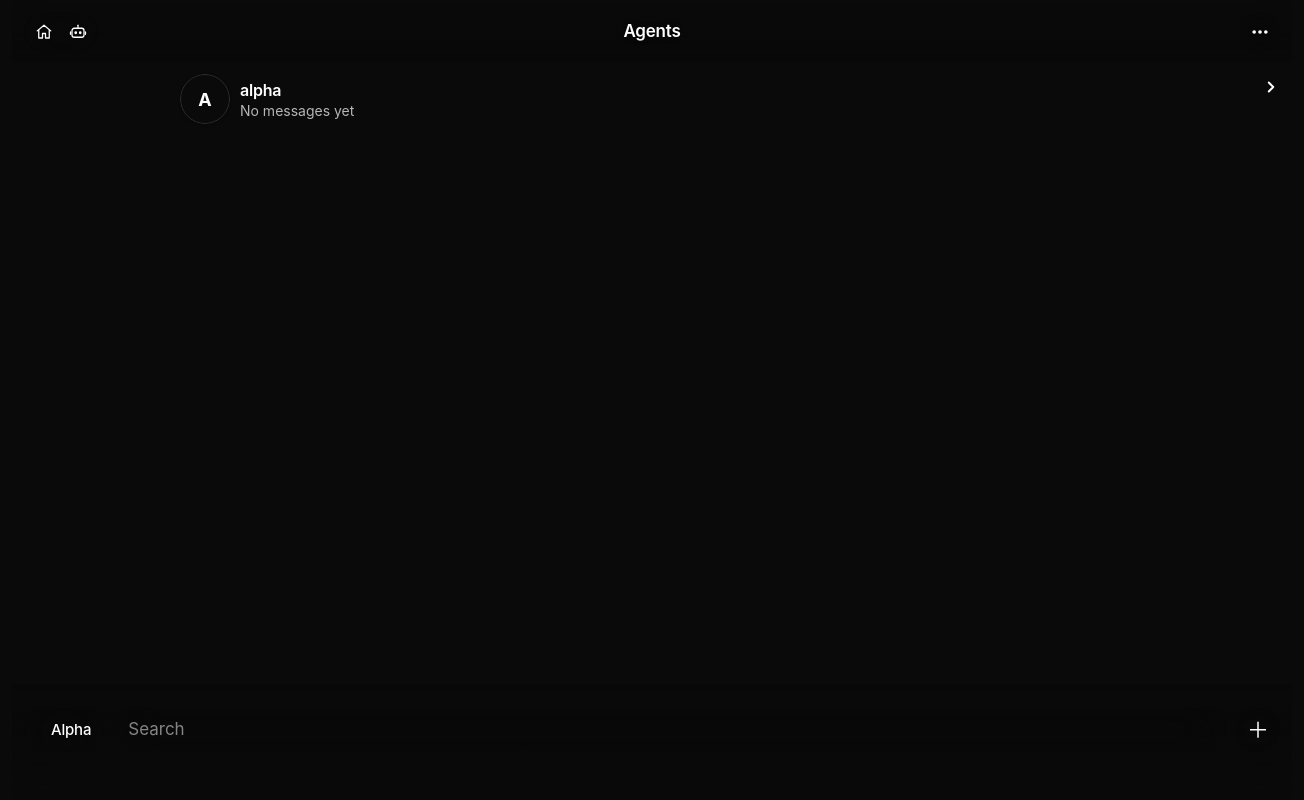
Test case: a person row whose server is not saved on this phone › a channel row in the grid: Sign in under its name, and a tap opens Add server for its host
The width and height of the screenshot is (1304, 800).
Click the button with test id "list-tab-home". click: point(44, 32)
box: [27,15,61,49]
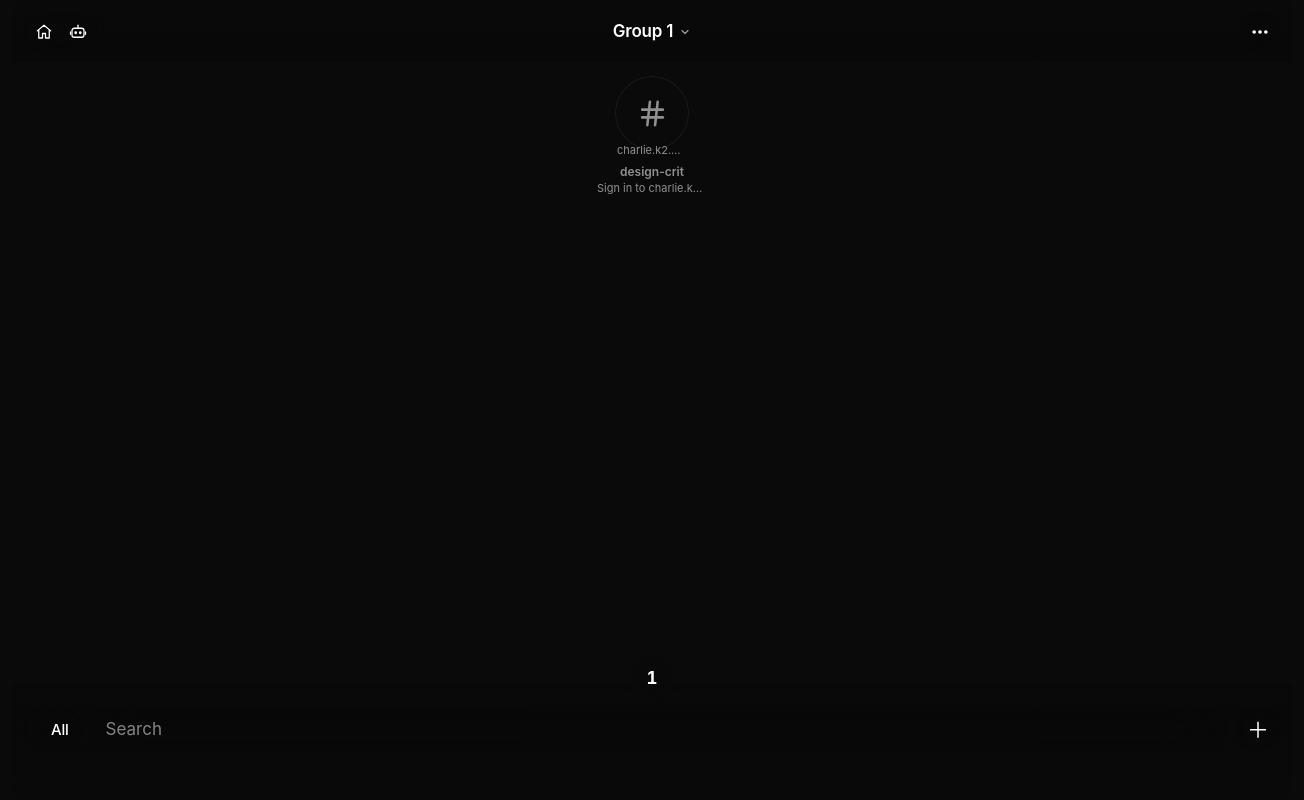
Result: the text with test id "row-failure" reads "Sign in to charlie.k2.dev" at [597,181,722,195]
Click the button with test id "home-chat-channel-502". click: point(652, 136)
box: [453,76,851,195]
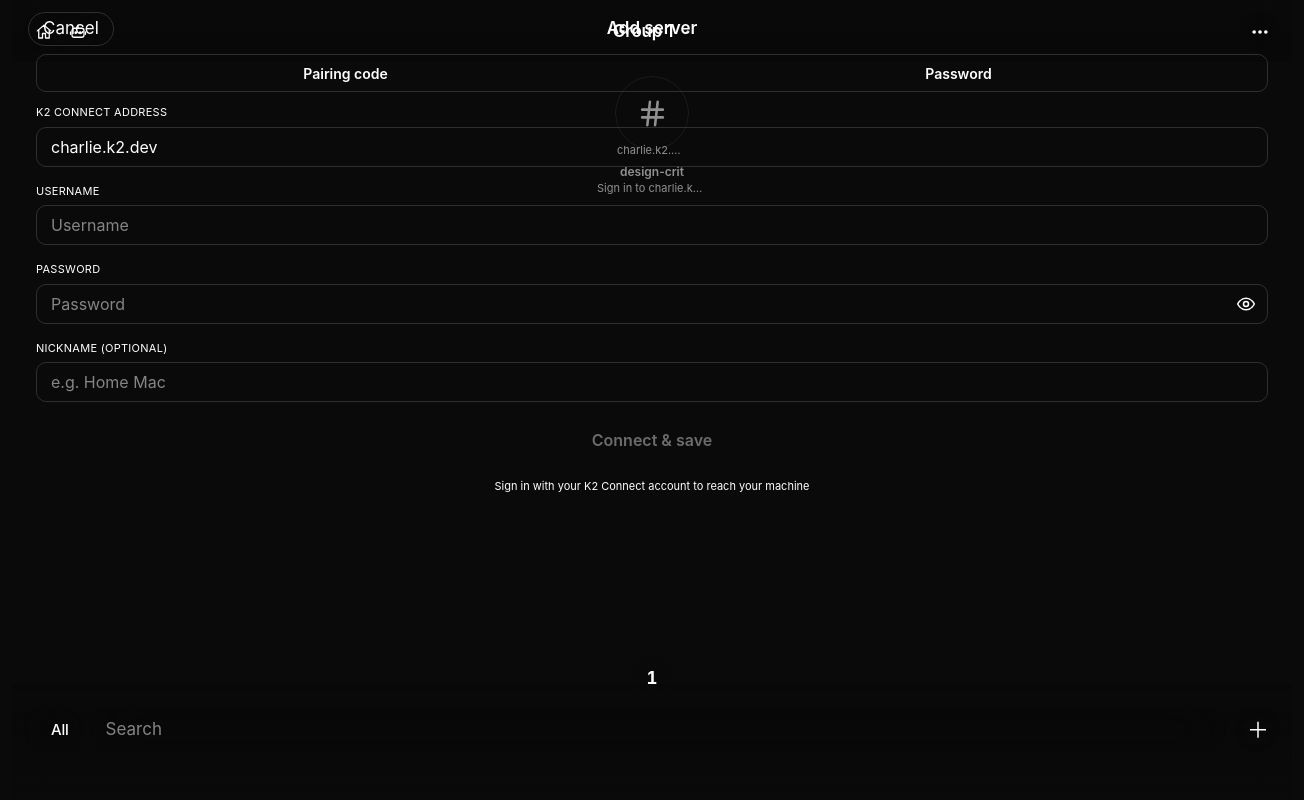
Result: the field showing "charlie.k2.dev" is shown at [36,126,1268,166]
